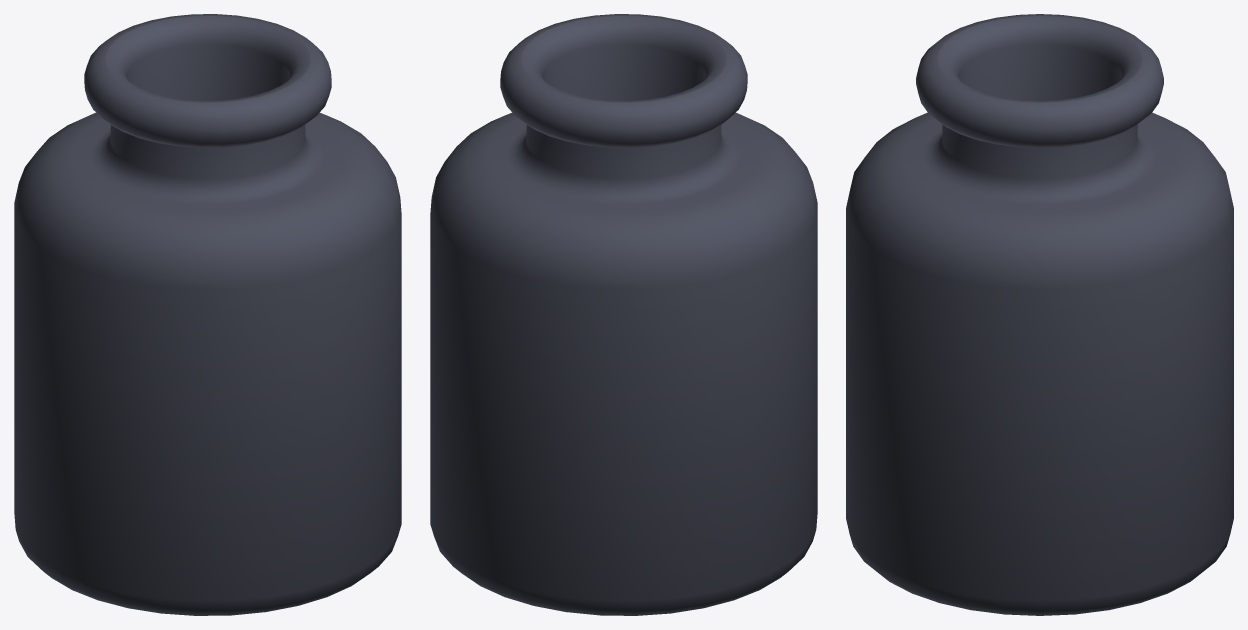
File: Pot2.fbx
3 views of the same model, side by side, from view 1: azimuth 30°, elevation 25°; view 2: azimuth 150°, elevation 25°; view 3: azimuth 270°, elevation 25° (orthographic).
Visible parts, largest first — view 1: Pot2; view 2: Pot2; view 3: Pot2.
Part boxes in pixels (x1,y1,x2,y2): Pot2: (14,14,401,615); Pot2: (430,14,817,615); Pot2: (846,14,1233,615).
Bounding box in the file's own units: 23 × 31.64 × 23.
